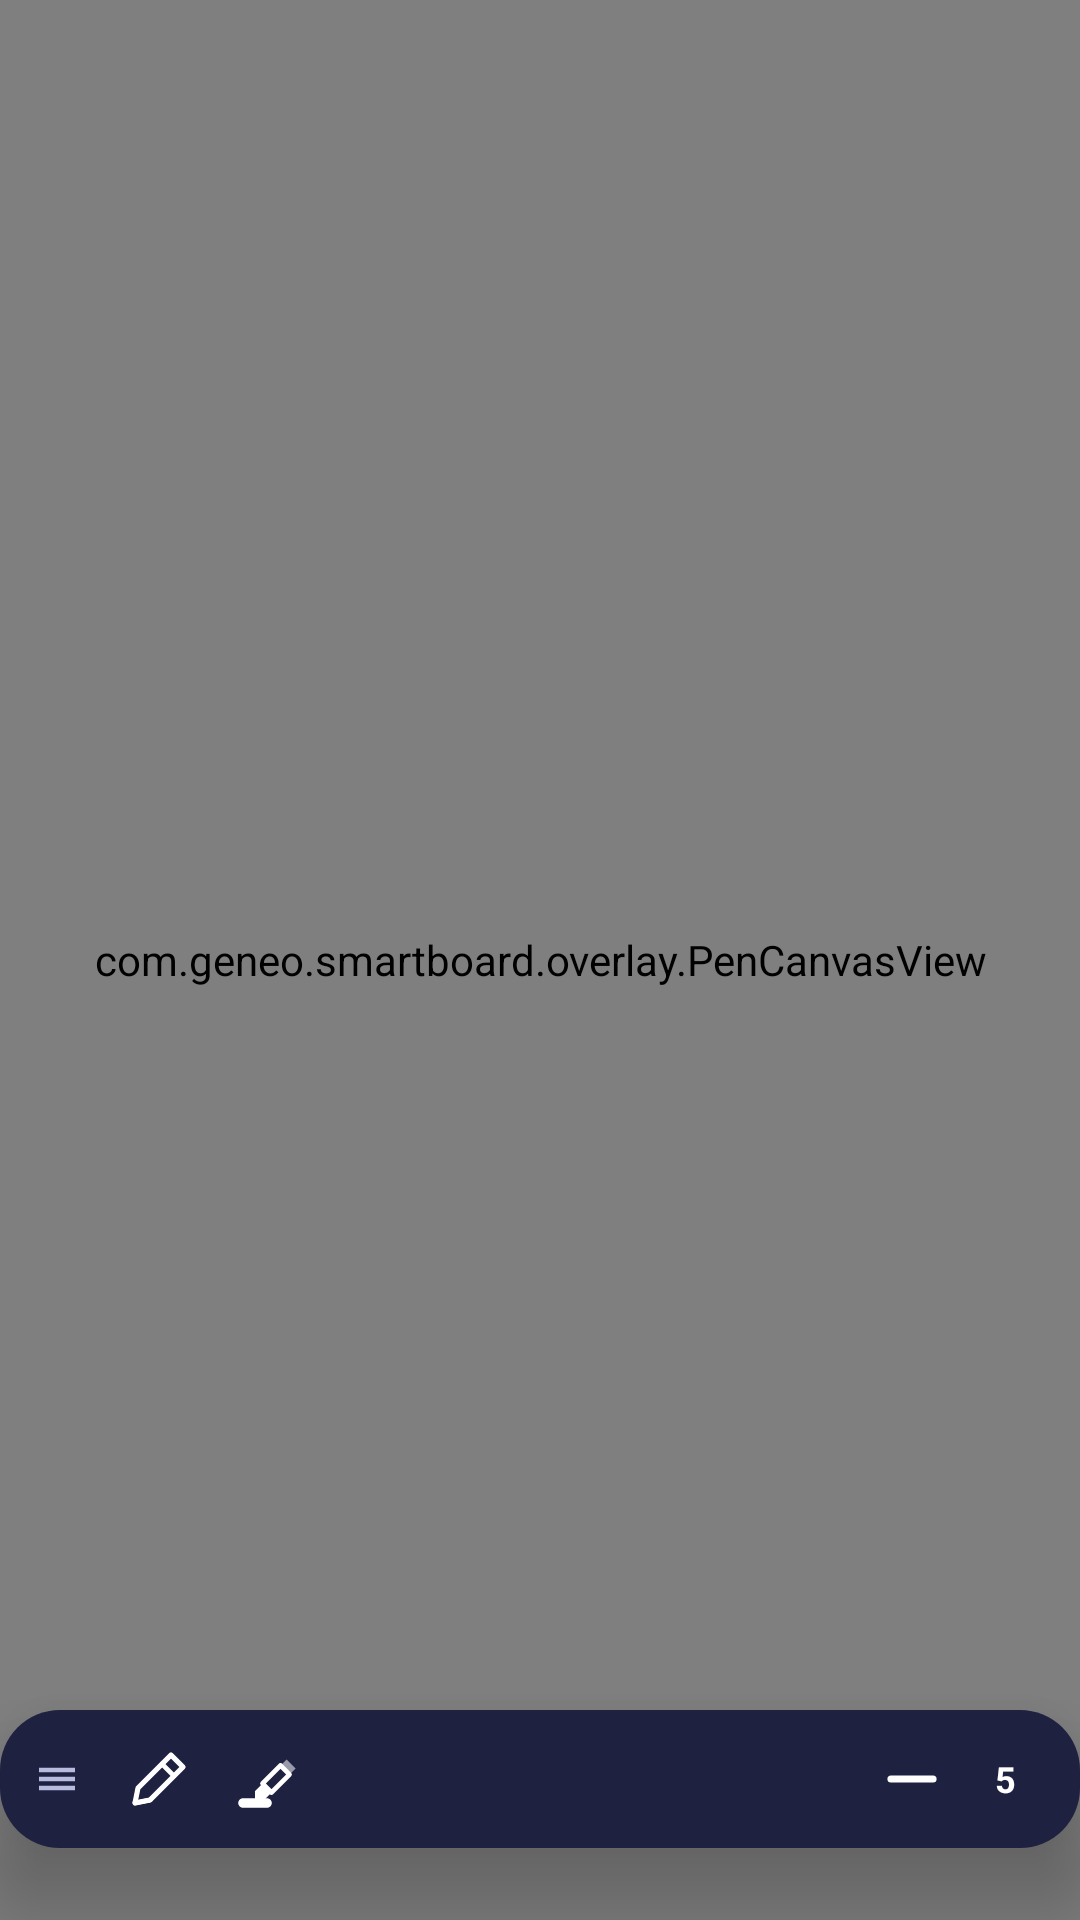

Screen size 1080px×1920px. Icon name, then its box in pixels as [x1,y1,x2,y2]:
drag handle: [39,1767,75,1791]
Highlighter: [238,1759,296,1808]
Pen: [132,1752,186,1806]
